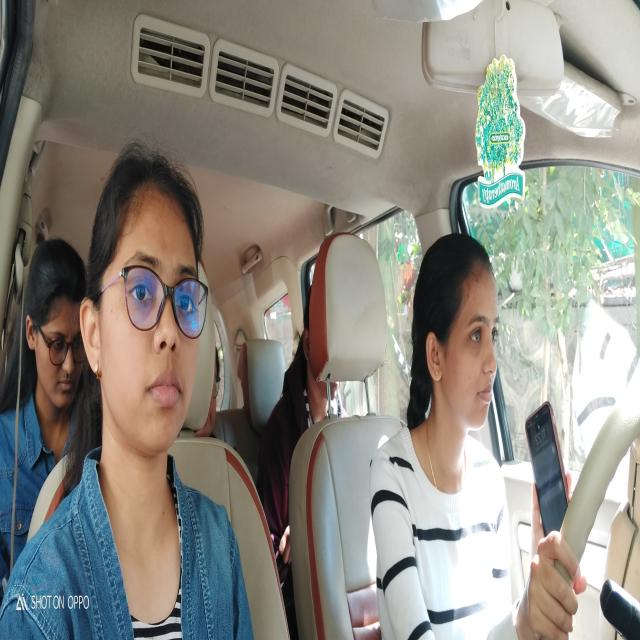mobile: (524, 408, 576, 537)
person: (78, 143, 200, 450), (413, 222, 500, 428), (22, 246, 82, 403), (298, 359, 347, 415), (199, 346, 224, 442)
